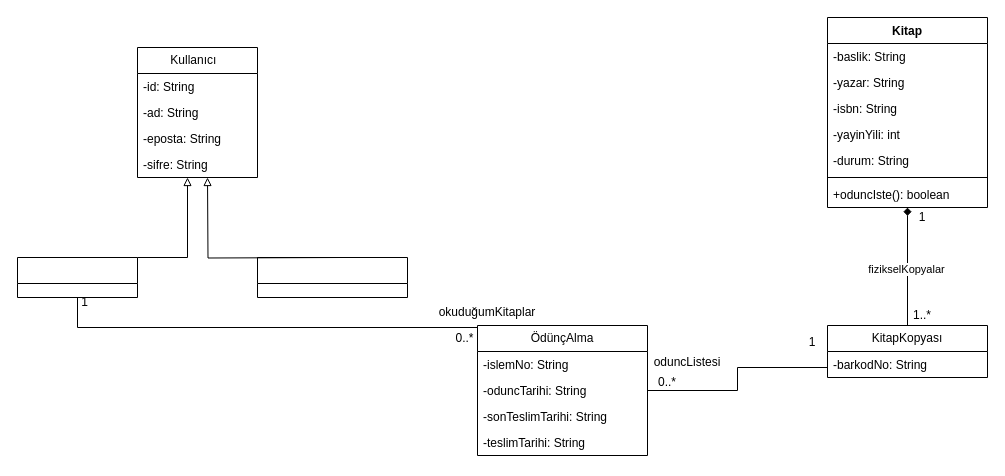
Image size: 1005x476. Some labels were removed from this diagram. The shapes that lost their labels are listed below. From the top down, each one's centre as x and y in pixels, then its label:
At (x=77, y=277): "Üye".
At (x=332, y=277): "KütüphaneGörevlisi".
